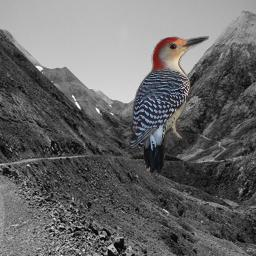Woodpecker: (129, 36, 209, 173)
